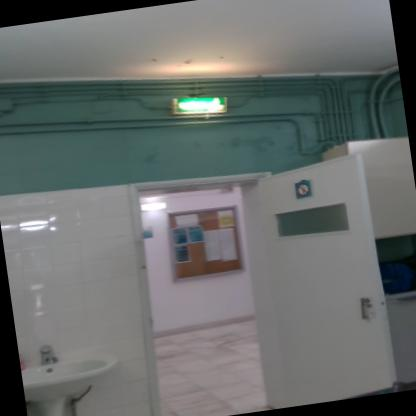open: (113, 144, 401, 415)
